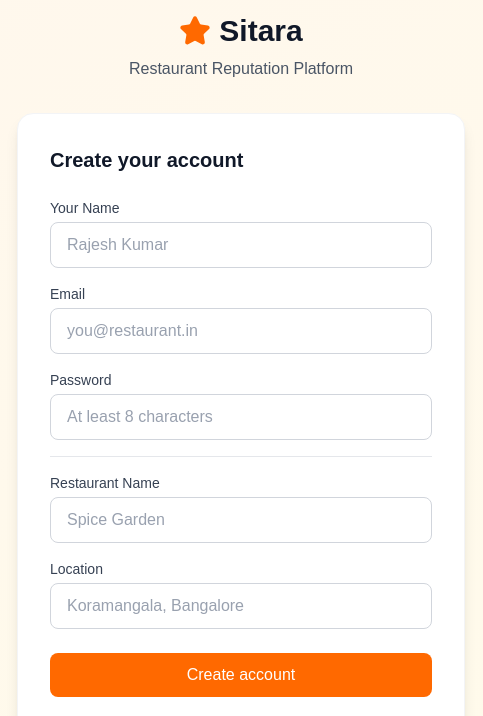
RegisterPage › validates password length (min 8)
Type "Test" into the field labelled "Your Name" at [241, 245], box [50, 222, 432, 268]
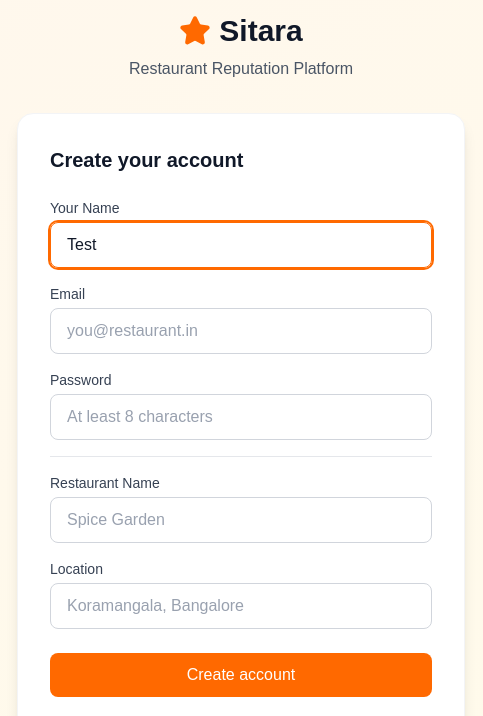
Type "test@test.com" into the field labelled "Email" at [241, 331], box [50, 308, 432, 354]
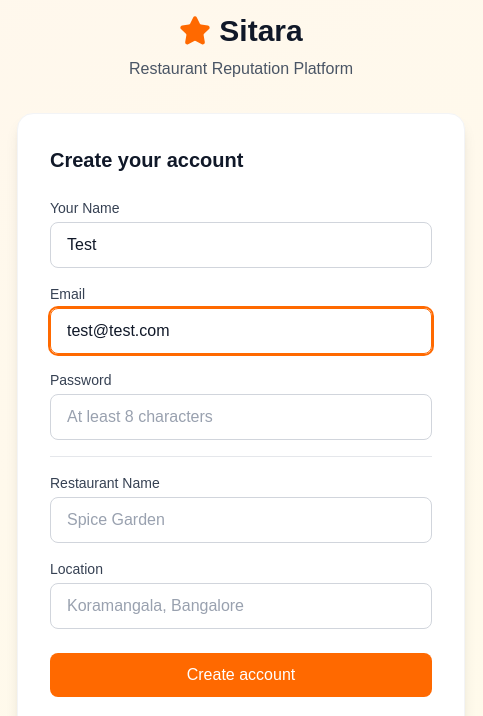
Type "1234567" into the password field labelled "Password" at [241, 417], box [50, 394, 432, 440]
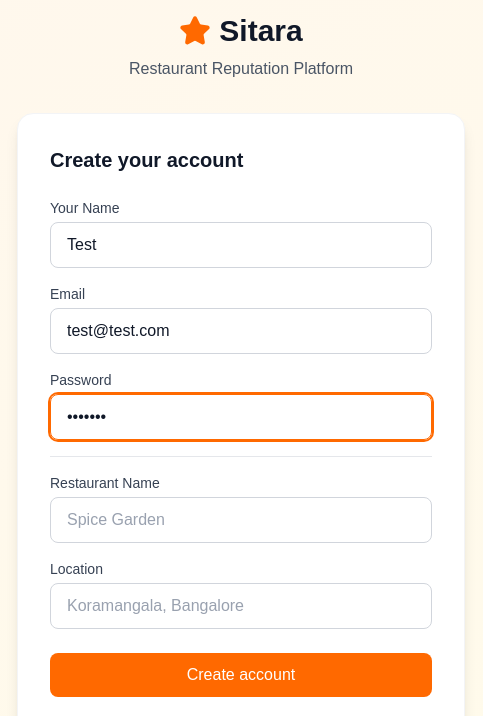
Type "My Restaurant" into the field labelled "Restaurant Name" at [241, 520], box [50, 497, 432, 543]
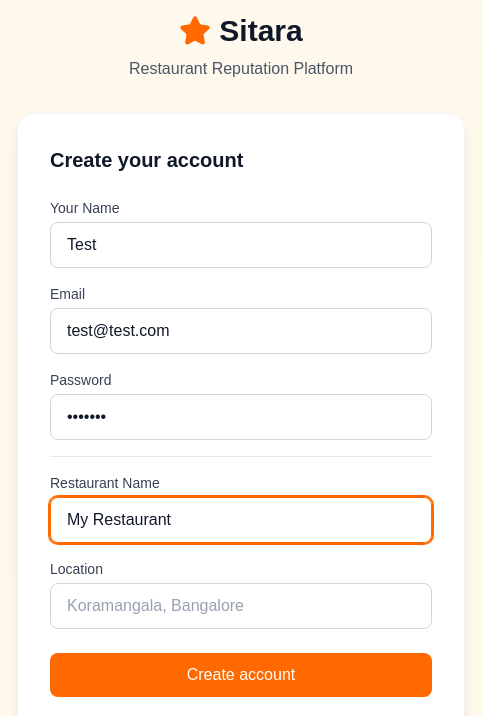
Type "Bangalore" into the field labelled "Location" at [241, 606], box [50, 583, 432, 629]
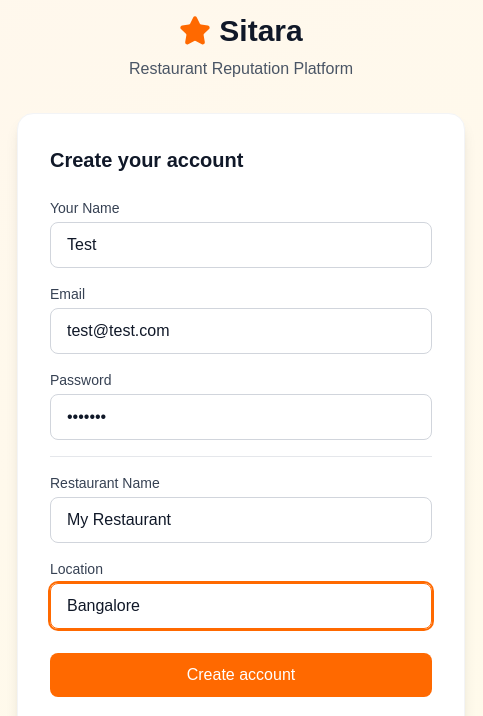
Click the button "Create account" at [241, 675], box [50, 653, 432, 697]
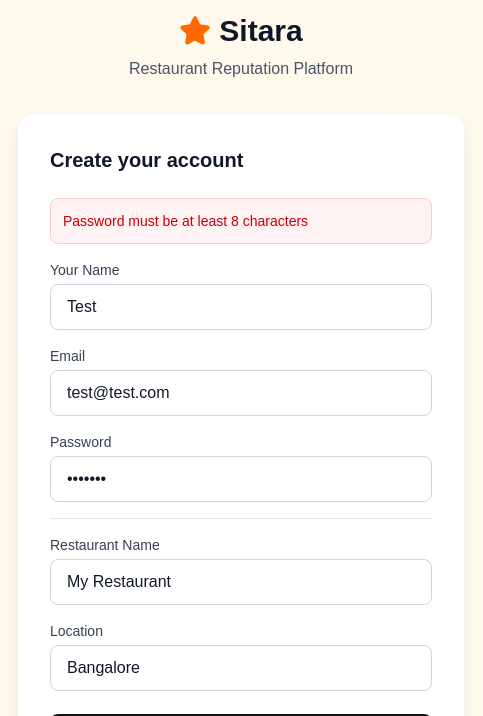
Result: the text "Password must be at least 8 characters" is shown at [50, 198, 432, 244]
